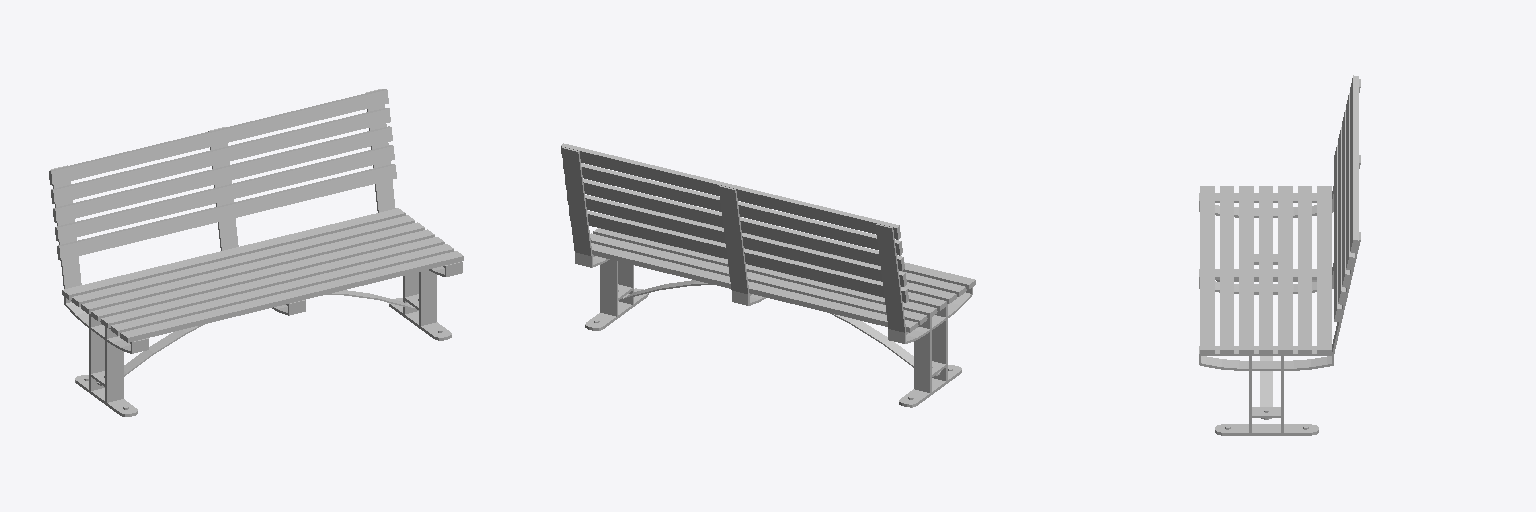
File: parkBench.obj
3 renders of one model, left to right at view 1: azimuth 30°, elevation 25°; view 2: azimuth 150°, elevation 25°; view 3: azimuth 270°, elevation 25°, orthographic.
Parts seen in each view (by area): view 1: Plank01_low, Plank03_low, Plank02_low, Base_low, Curve_low; view 2: Plank01_low, Base_low, Plank03_low, Plank02_low, Curve_low; view 3: Plank01_low, Plank03_low, Base_low, Plank02_low, Curve_low.
Boxes of the visible parts, x1=… form: Plank01_low: x1=49, y1=89, x2=463, y2=342; Plank03_low: x1=51, y1=108, x2=444, y2=328; Plank02_low: x1=55, y1=145, x2=453, y2=335; Base_low: x1=51, y1=89, x2=462, y2=416; Curve_low: x1=96, y1=290, x2=415, y2=385; Plank01_low: x1=561, y1=143, x2=975, y2=332; Base_low: x1=562, y1=147, x2=972, y2=407; Plank03_low: x1=563, y1=163, x2=956, y2=324; Plank02_low: x1=567, y1=195, x2=965, y2=310; Curve_low: x1=620, y1=280, x2=940, y2=375; Plank01_low: x1=1200, y1=75, x2=1358, y2=354; Plank03_low: x1=1239, y1=93, x2=1354, y2=354; Base_low: x1=1199, y1=79, x2=1360, y2=435; Plank02_low: x1=1220, y1=127, x2=1345, y2=354; Curve_low: x1=1260, y1=356, x2=1272, y2=419.
Size of the model in its own units: 11.96 by 6.7 by 4.98.